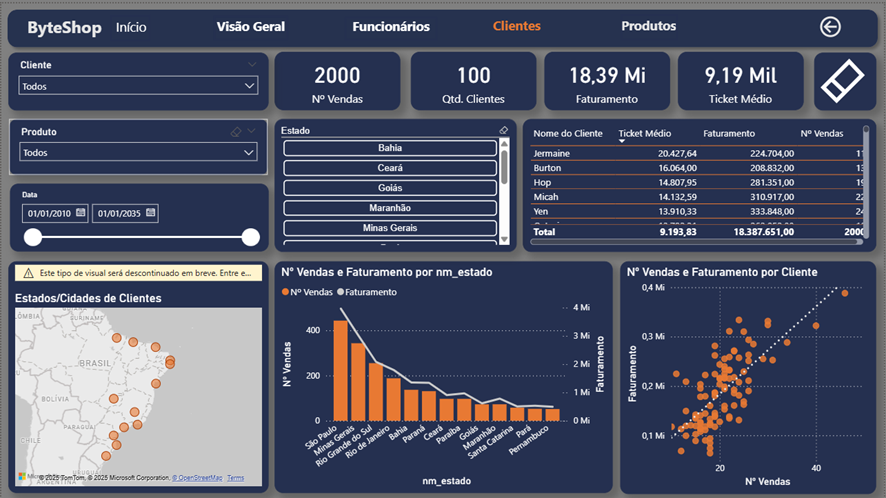

The dashboard page shown, as its layout file describes it:
{"tool":"powerbi","page":{"name":"Clientes","canvas":[1280,720],"ordinal":3},"visuals":[{"type":"card","fields":{"Values":["_Medidas.Nº Vendas"]},"box":[396.2,70,182.5,85],"z":0},{"type":"actionButton","box":[1178.8,71.2,90,83.8],"z":1000},{"type":"slicer","fields":{"Values":["public dim_cliente.nm_cliente"]},"box":[10,71.2,377.5,83.8],"z":2000},{"type":"slicer","fields":{"Values":["public dim_produto.nm_produto"]},"box":[11.2,167.5,375,81.2],"z":3000},{"type":"slicer","fields":{"Values":["public dim_data.desc_data_completa"]},"box":[12.5,261.2,375,98.8],"z":4000},{"type":"shape","box":[0,0,1280,72.5],"z":5000},{"type":"textbox","box":[32.5,12.5,125,48.8],"z":6000},{"type":"textbox","box":[307,15.2,108.8,38.8],"z":7000},{"type":"textbox","box":[497,15.2,135,41.2],"z":8000},{"type":"textbox","box":[707.5,13.8,80,41.2],"z":9000},{"type":"textbox","box":[885.8,14,105,41.2],"z":10000},{"type":"card","fields":{"Values":["_Medidas.Qtd. Clientes"]},"box":[593.8,70,182.5,85],"z":11000},{"type":"card","fields":{"Values":["_Medidas.Faturamento"]},"box":[787.5,70,182.5,85],"z":12000},{"type":"card","fields":{"Values":["_Medidas.Ticket Médio"]},"box":[981.2,70,182.5,85],"z":13000},{"type":"actionButton","box":[307.5,17.5,108.8,36.2],"z":14000},{"type":"actionButton","box":[307.5,17.5,108.8,36.2],"z":15000},{"type":"actionButton","box":[497.5,18.8,135,35],"z":16000},{"type":"actionButton","box":[897.5,15,83.8,38.8],"z":17000},{"type":"tableEx","fields":{"Values":["public dim_cliente.nm_cliente","_Medidas.Ticket Médio","_Medidas.Faturamento","_Medidas.Nº Vendas"]},"box":[756.2,167.5,512.5,192.5],"z":18000},{"type":"map","title":"Estados/Cidades de Clientes","fields":{"Category":["public dim_cliente.nm_estado","public dim_cliente.nm_cidade"]},"box":[10,373.8,377.5,336.2],"z":19000},{"type":"lineClusteredColumnComboChart","fields":{"Y":["_Medidas.Nº Vendas"],"Category":["public dim_cliente.nm_estado"],"Y2":["_Medidas.Faturamento"]},"box":[396.2,373.8,490,336.2],"z":20000},{"type":"scatterChart","title":"Nº Vendas e Faturamento por Cliente","fields":{"X":["_Medidas.Nº Vendas"],"Y":["_Medidas.Faturamento"],"Category":["public dim_cliente.nm_cliente"]},"box":[897.5,373.8,371.2,337.5],"z":21000},{"type":"ChicletSlicer1448559807354","fields":{"Category":["public dim_cliente.nm_estado"]},"box":[396.2,167.5,351.2,192.5],"z":22000},{"type":"textbox","box":[161.2,16.2,65,41.2],"z":23000},{"type":"actionButton","box":[157.5,16.2,58.8,38.8],"z":24000},{"type":"actionButton","box":[1182.5,13.8,41.2,40],"z":25000}]}

Visuals, with their boxes in screenshot pixels (x1, y1, x2, y2), scaled from the page's 1280x720 canvas onto the 886x498 screenshot:
card - _Medidas.Nº Vendas: [274, 48, 401, 107]
actionButton: [816, 49, 878, 107]
slicer - public dim_cliente.nm_cliente: [7, 49, 268, 107]
slicer - public dim_produto.nm_produto: [8, 116, 267, 172]
slicer - public dim_data.desc_data_completa: [9, 181, 268, 249]
shape: [0, 0, 885, 50]
textbox: [22, 9, 109, 42]
textbox: [213, 11, 288, 37]
textbox: [344, 11, 437, 39]
textbox: [490, 10, 545, 38]
textbox: [613, 10, 686, 38]
card - _Medidas.Qtd. Clientes: [411, 48, 537, 107]
card - _Medidas.Faturamento: [545, 48, 671, 107]
card - _Medidas.Ticket Médio: [679, 48, 805, 107]
actionButton: [213, 12, 288, 37]
actionButton: [213, 12, 288, 37]
actionButton: [344, 13, 438, 37]
actionButton: [621, 10, 679, 37]
tableEx - public dim_cliente.nm_cliente x _Medidas.Ticket Médio: [523, 116, 878, 249]
"Estados/Cidades de Clientes" map: [7, 259, 268, 491]
lineClusteredColumnComboChart - _Medidas.Nº Vendas x public dim_cliente.nm_estado: [274, 259, 613, 491]
"Nº Vendas e Faturamento por Cliente" scatterChart: [621, 259, 878, 492]
ChicletSlicer1448559807354 - public dim_cliente.nm_estado: [274, 116, 517, 249]
textbox: [112, 11, 157, 40]
actionButton: [109, 11, 150, 38]
actionButton: [819, 10, 847, 37]
